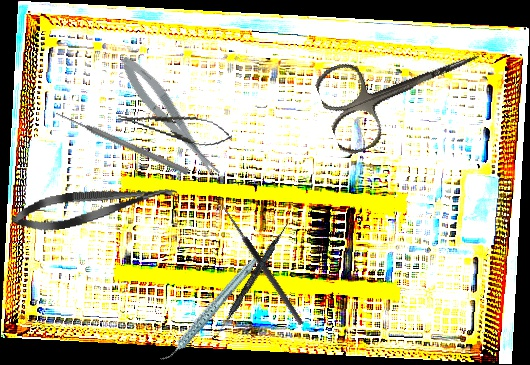Handpiece: (142, 256, 275, 364)
Hook Surgical: (212, 201, 305, 331)
Iris Scissors: (311, 16, 496, 159)
Micro Scissor: (114, 50, 225, 185), (9, 174, 180, 238)
Needle Holder: (115, 103, 235, 151)
Pusher: (54, 109, 190, 176)
Spatula Surgical: (212, 219, 290, 343)
